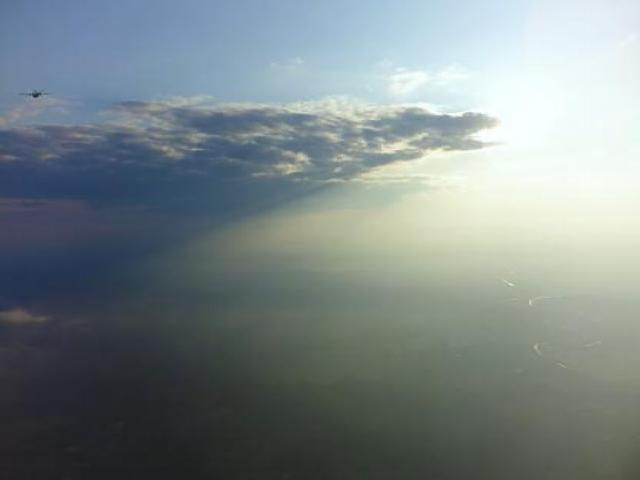uav: (16, 84, 53, 100)
